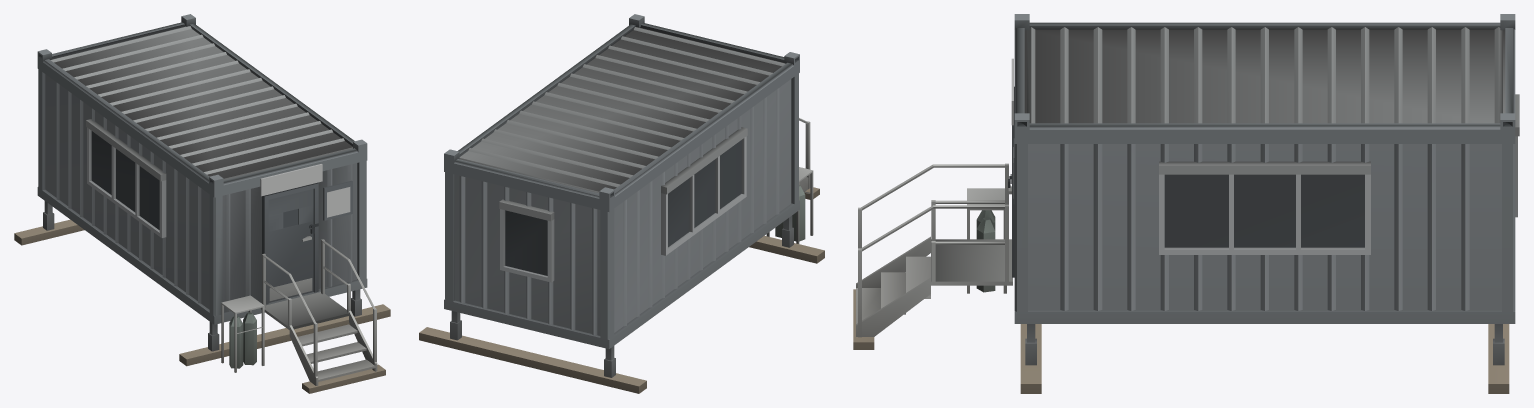
The model's file is sitecabin.glb.
The picture shows the model from 3 angles, left to right: view 1: azimuth 30°, elevation 25°; view 2: azimuth 150°, elevation 25°; view 3: azimuth 270°, elevation 25°; orthographic projection. The views are drawn at different scales.
Visible parts, largest first — view 1: sitecabin; view 2: sitecabin; view 3: sitecabin.
Part boxes in pixels (<box>): sitecabin: <box>14,14,390,393</box>; sitecabin: <box>419,14,824,393</box>; sitecabin: <box>853,14,1519,393</box>.
Size of the model in its own units: 4 by 3.39 by 7.98.
